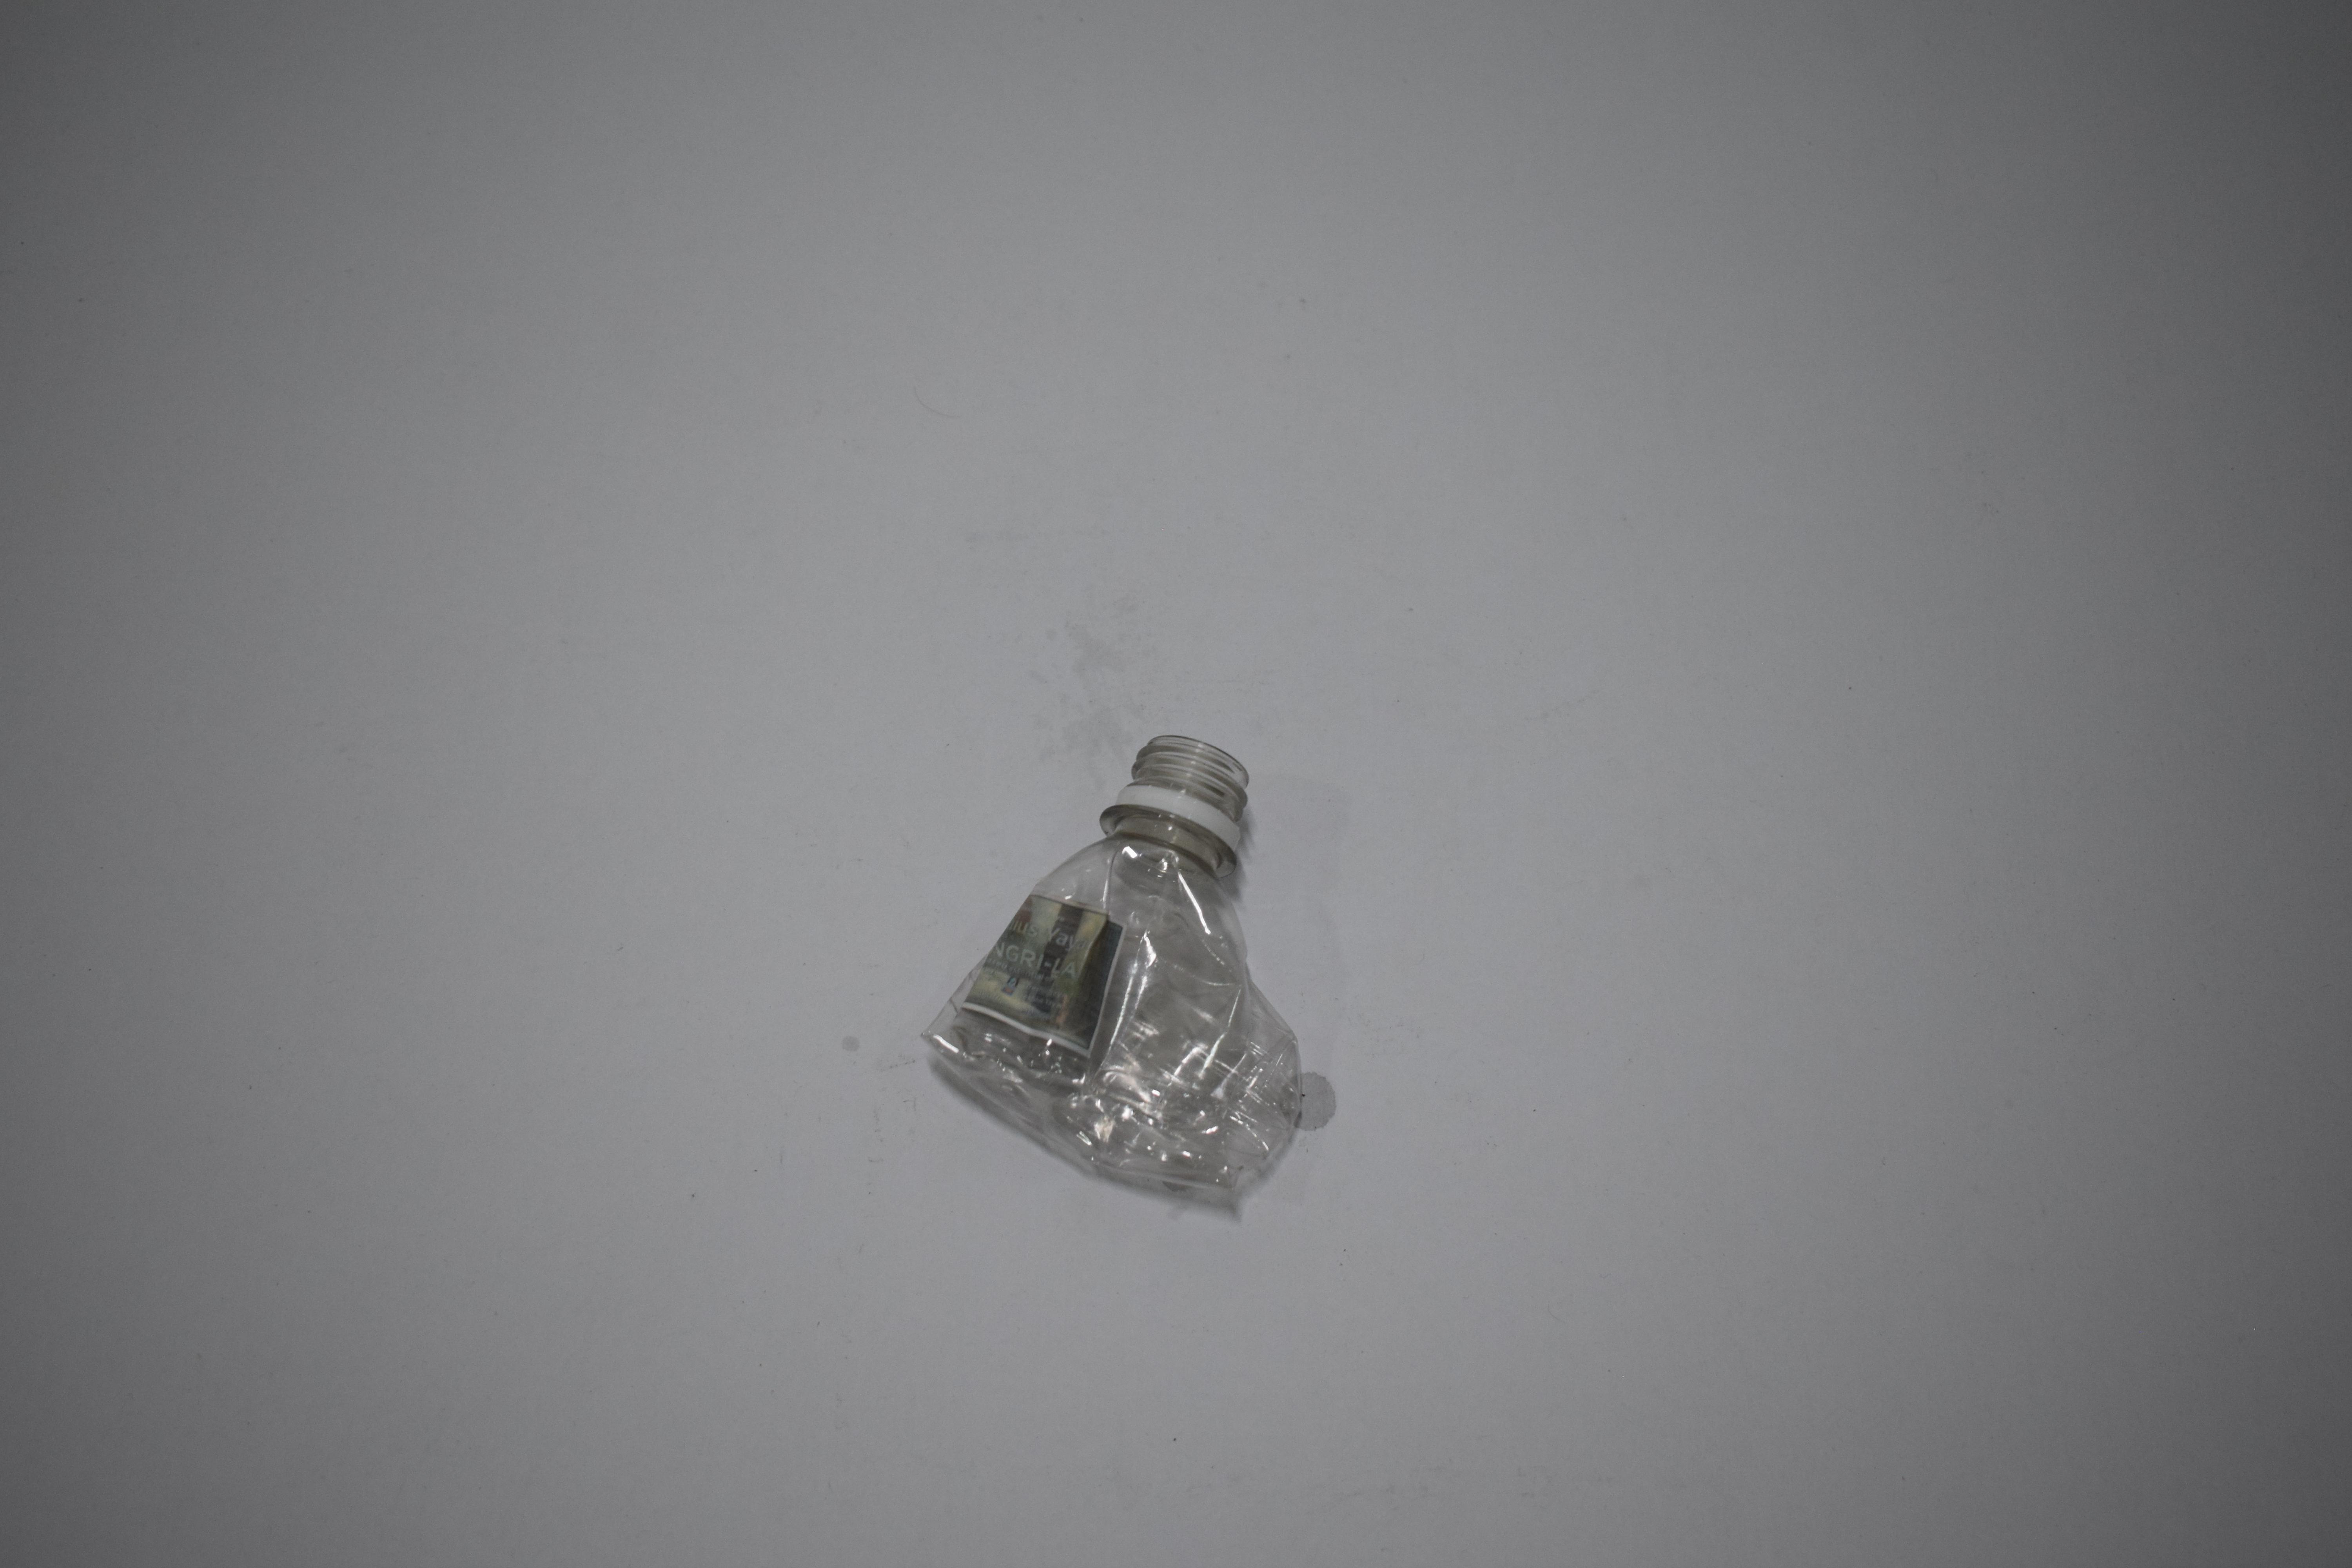bottle: (910, 724, 1309, 1227)
